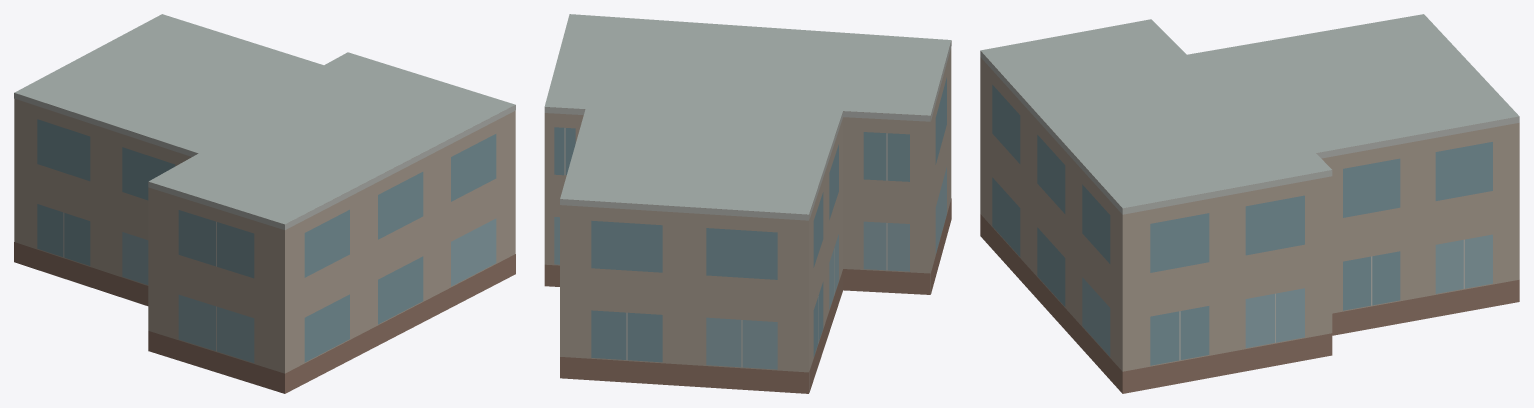
File: survey-upis-32943864.glb
3 renders of one model, left to right at view 1: azimuth 30°, elevation 25°; view 2: azimuth 150°, elevation 25°; view 3: azimuth 270°, elevation 25°, orthographic. The views are drawn at different scales.
Visible parts, largest first — view 1: survey-upis-32943864.tmp; view 2: survey-upis-32943864.tmp; view 3: survey-upis-32943864.tmp.
Boxes of the visible parts, x1,y1,x2,y2 form: survey-upis-32943864.tmp: (14,14,515,393); survey-upis-32943864.tmp: (544,14,951,393); survey-upis-32943864.tmp: (980,14,1519,393).
Size of the model in its own units: 16.08 by 7.15 by 18.85.
